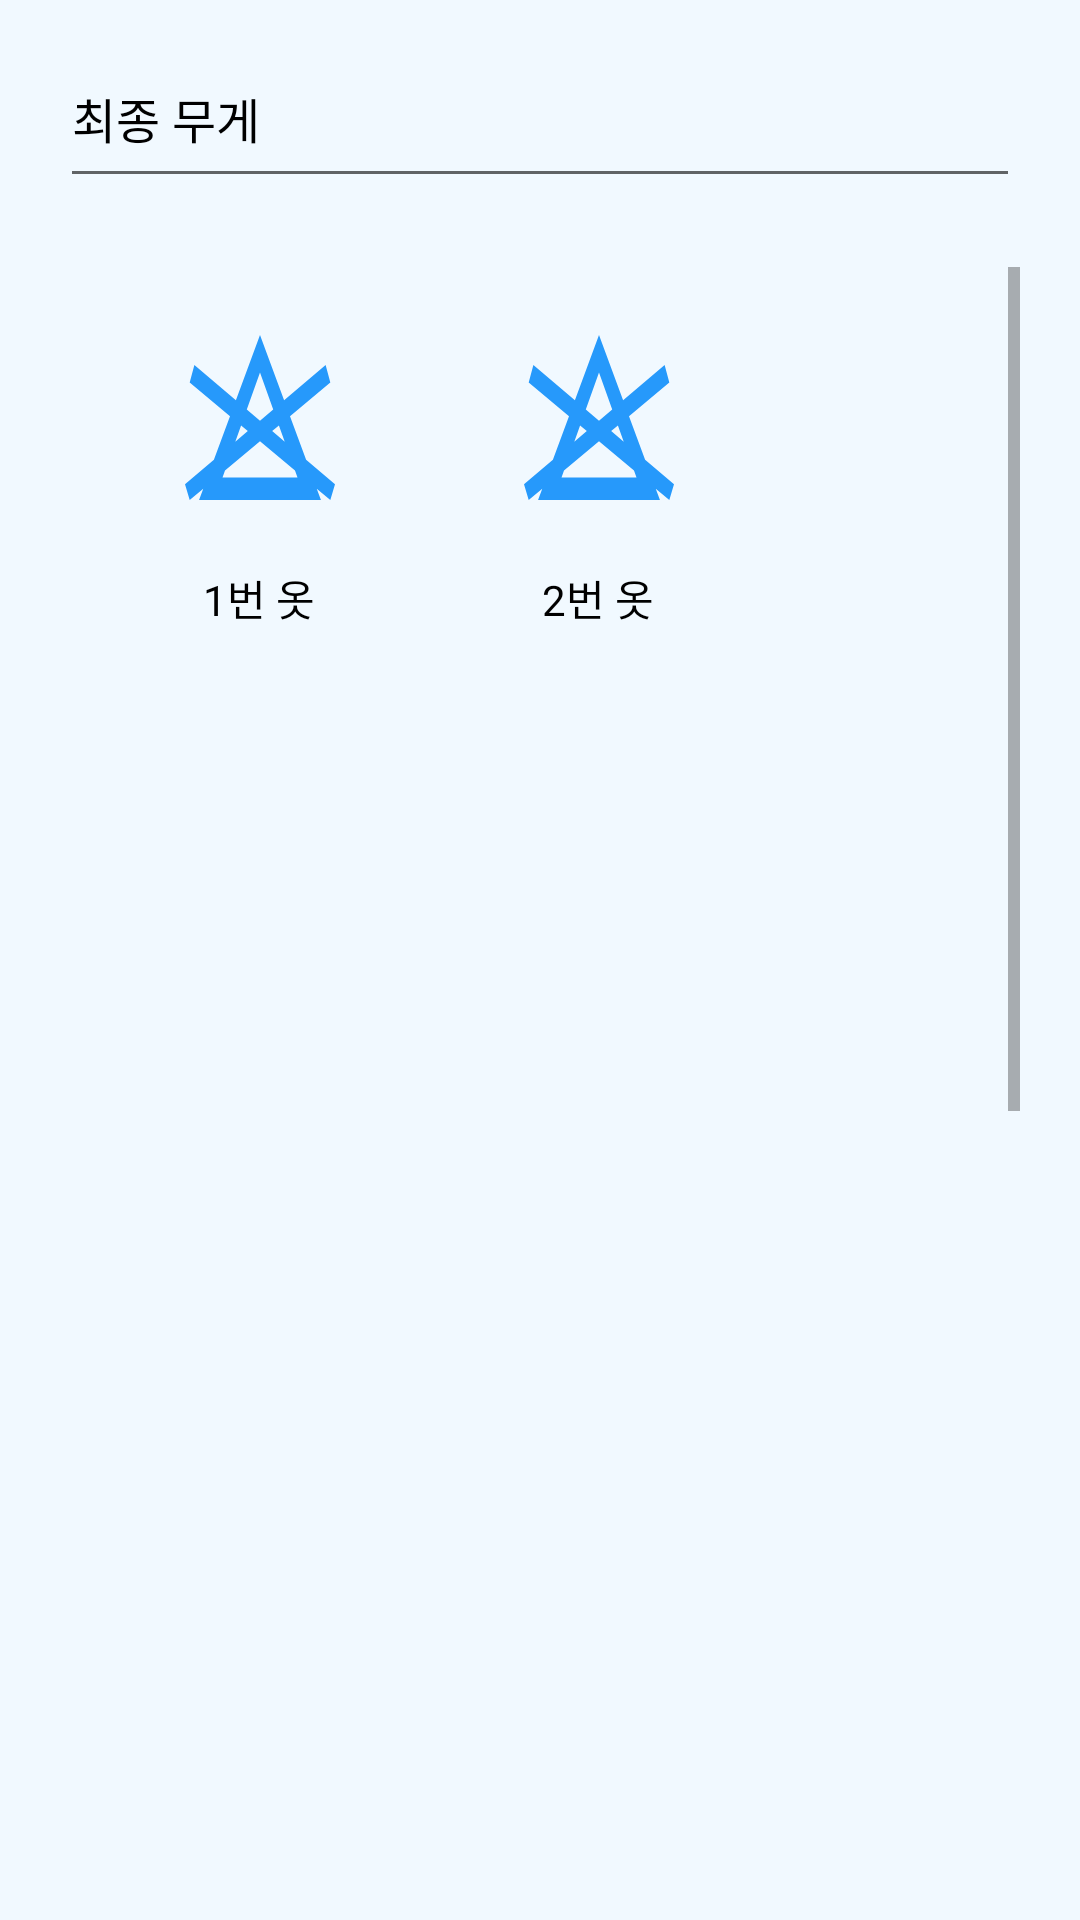

Screen size 1080 × 1920. Icon name, then its box in pixels as (x1, y1, x2, y2):
bleaching not allowed: (185, 335, 335, 500), (524, 335, 674, 500)
